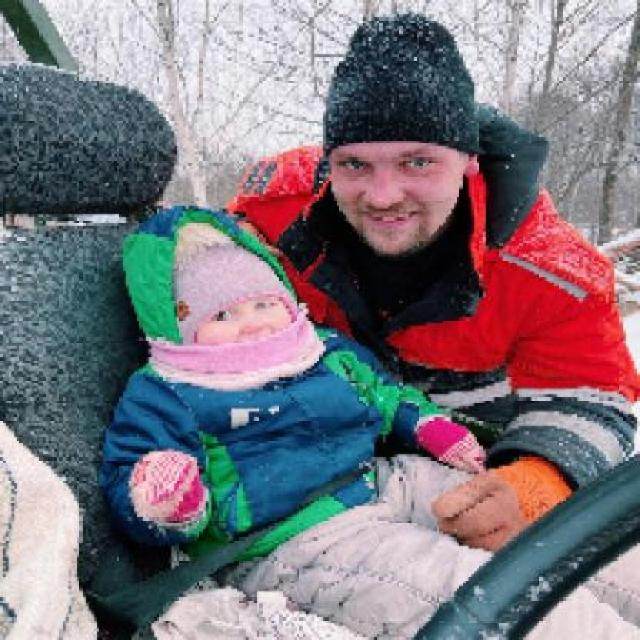child: (97, 202, 640, 638)
